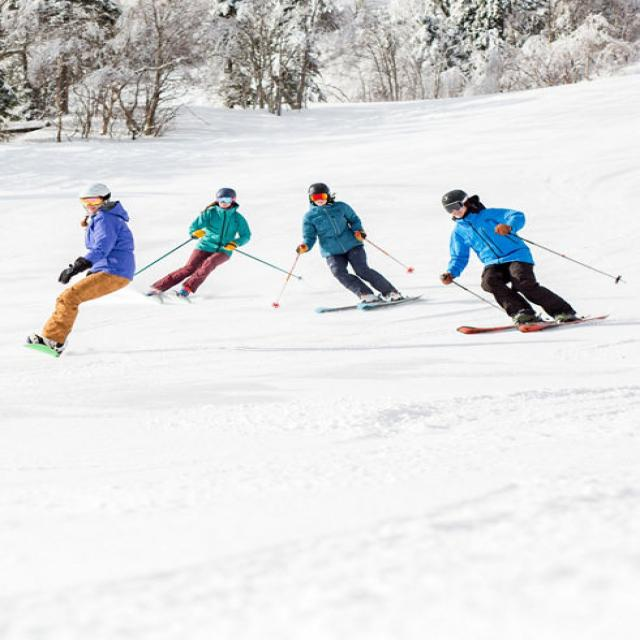skier: (435, 190, 629, 335), (136, 179, 303, 327), (265, 183, 428, 317)
snowboarder: (22, 182, 137, 357)
